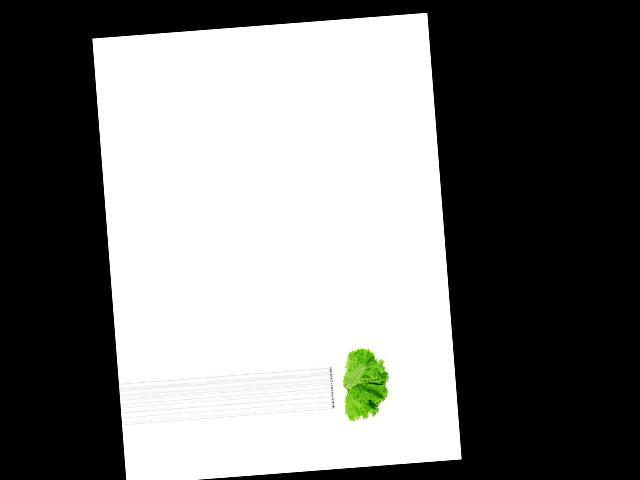lettuce: (331, 345, 392, 422)
